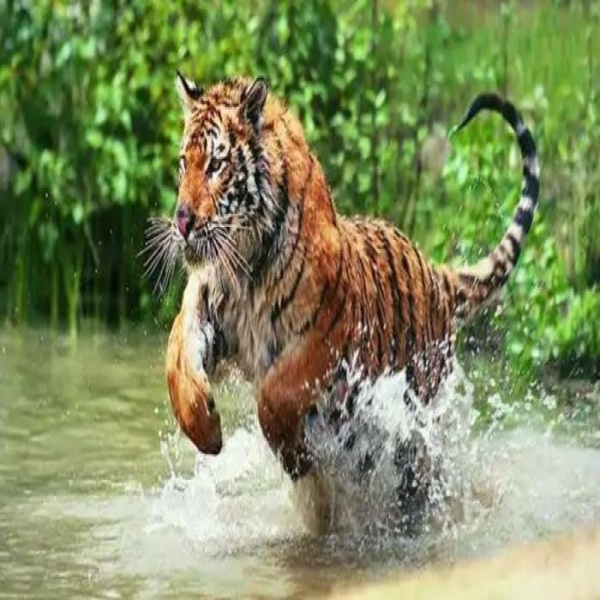Tiger: (152, 64, 545, 543)
